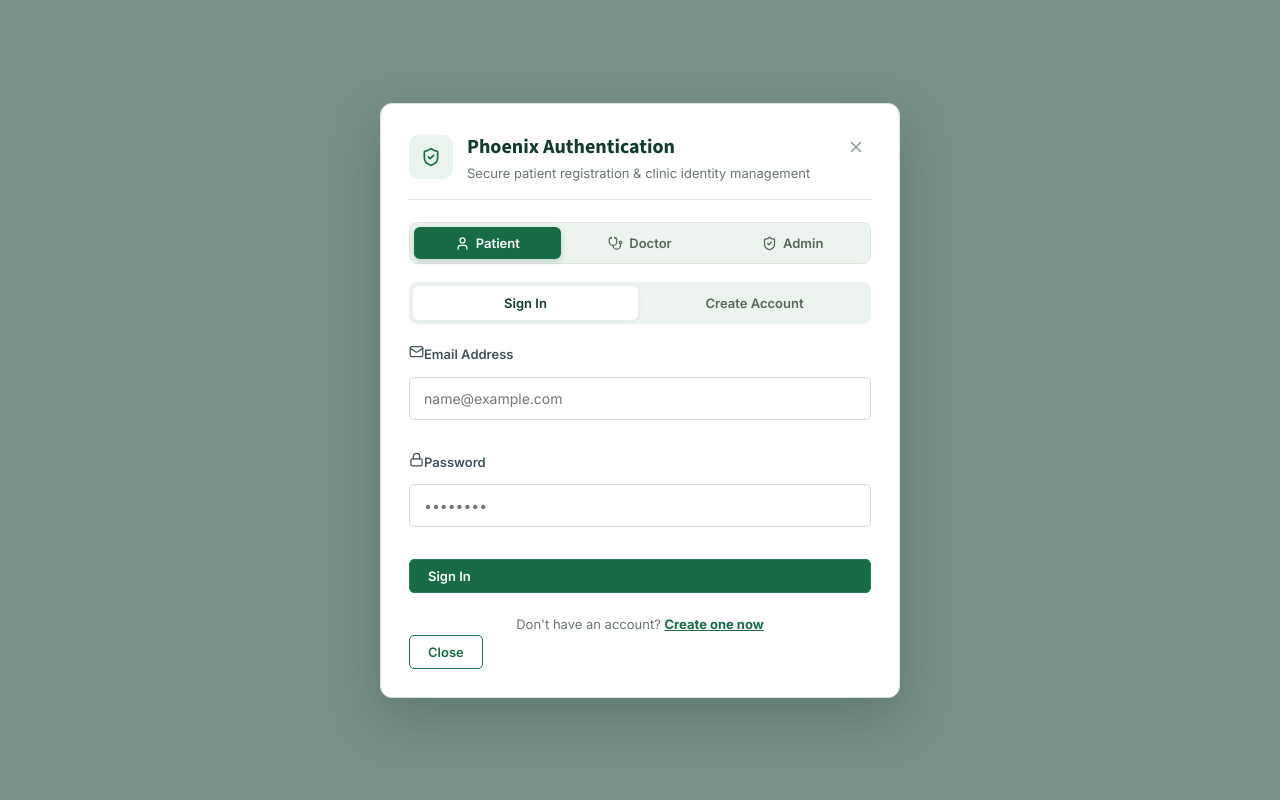
it: AuthModal › authenticates with Supabase and verifies authoritative role with backend GET /auth/me
Type "doctor@phoenix.test" into the field labelled "Email Address" at (640, 398), box [409,376,871,420]
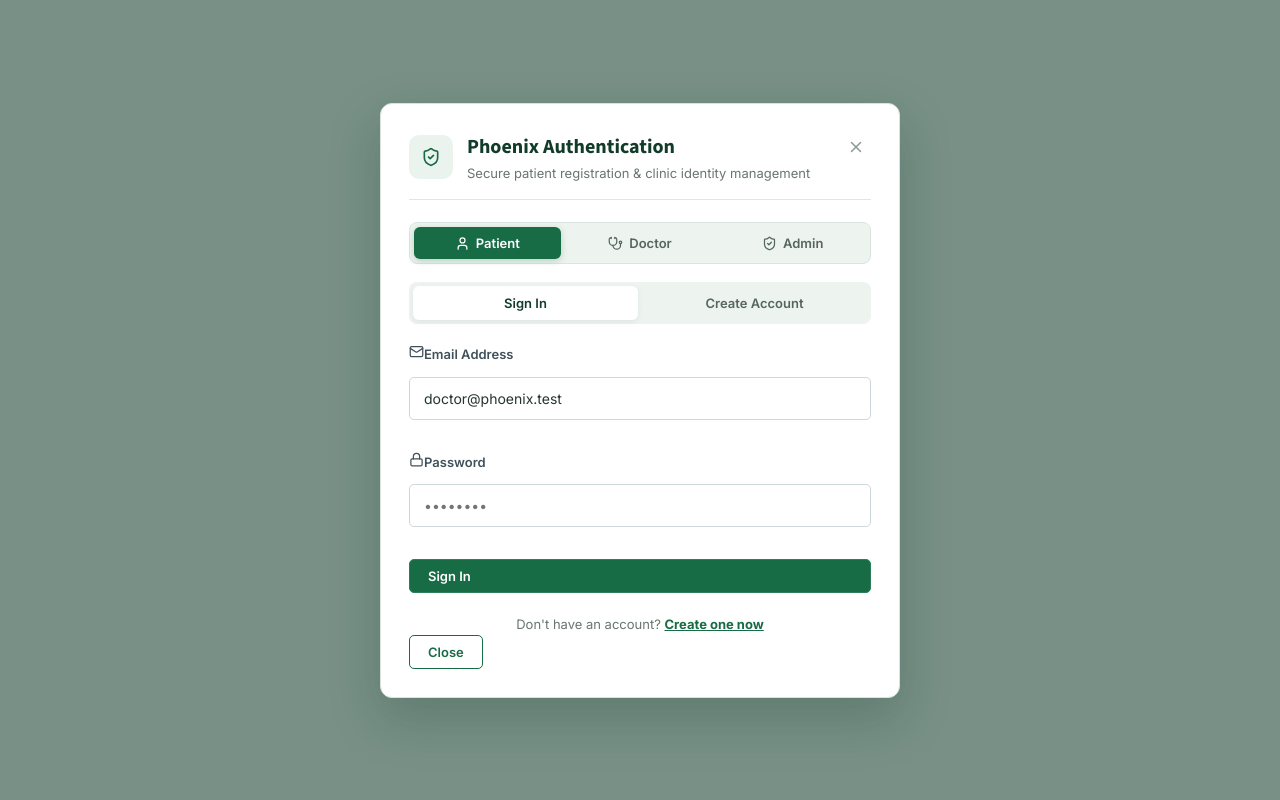
Type "securepassword123" into the password field labelled "Password" at (640, 506), box [409,484,871,527]
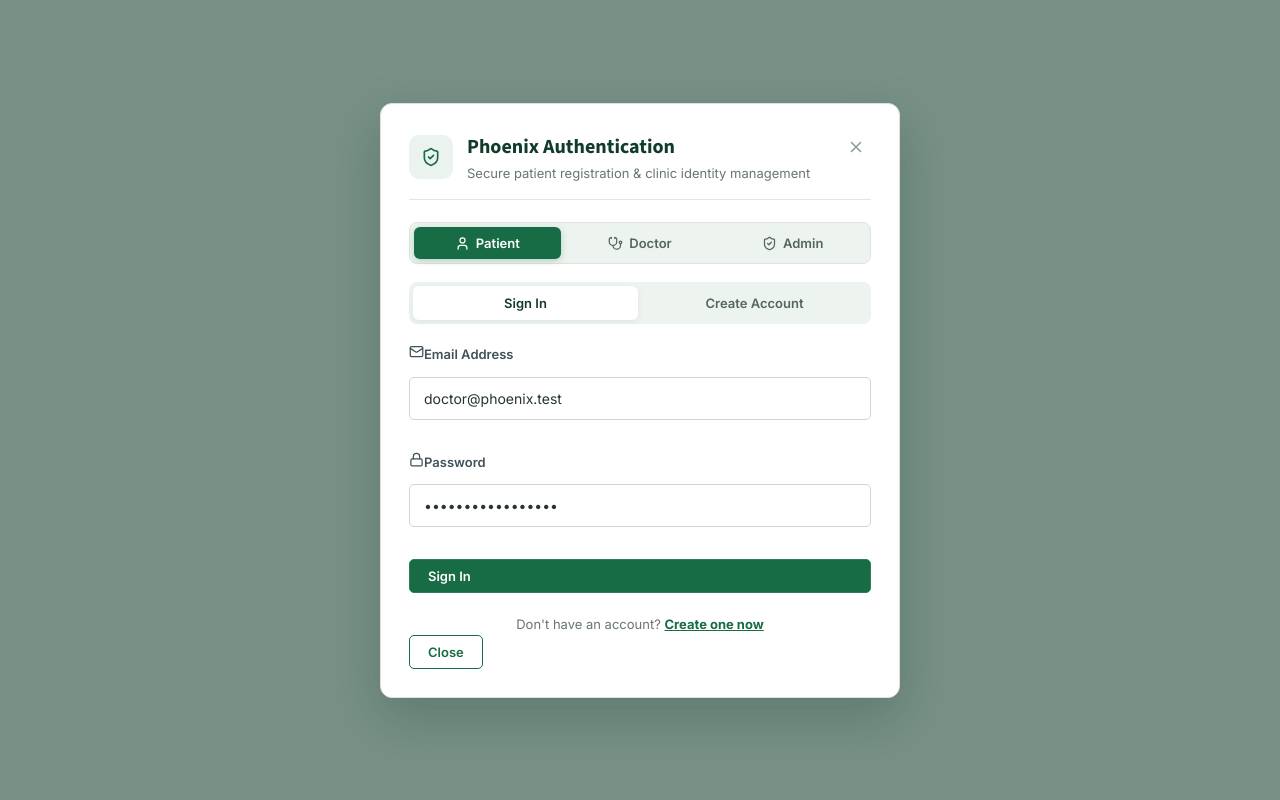
Click the button "Sign In" at (449, 576), box [409,559,871,593]
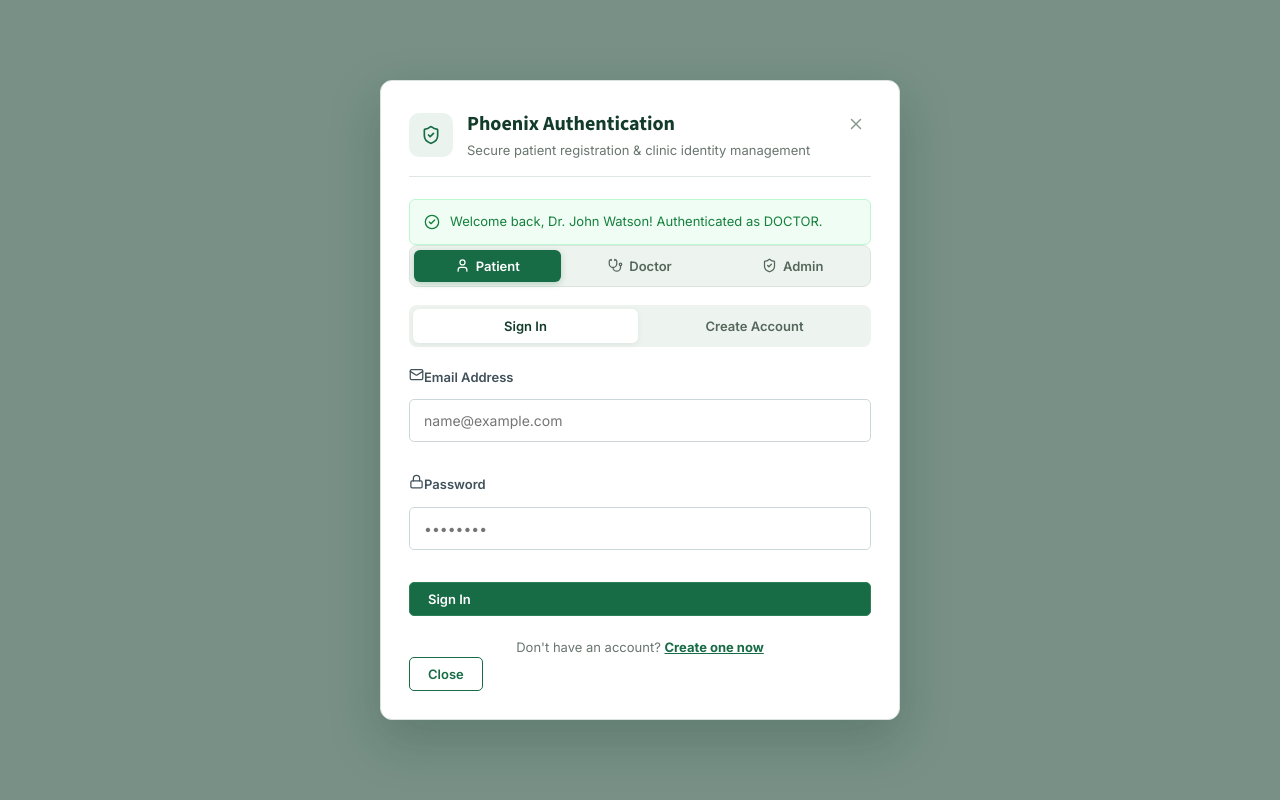
Expected: the text "Welcome back, Dr. John Watson! Authenticated as DOCTOR." is shown, [450,212,823,232]
